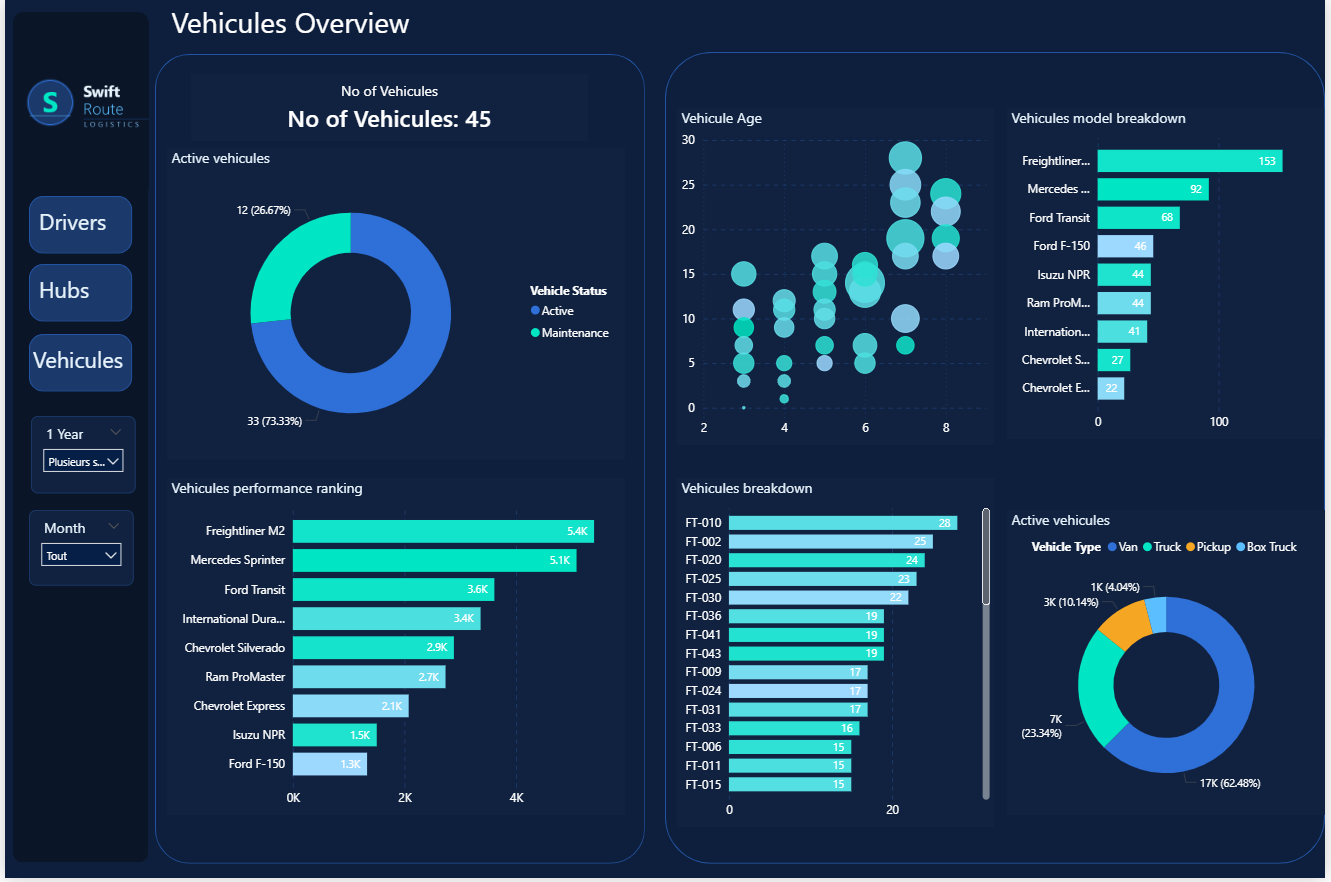

What the dashboard file says about the page in this screenshot:
{"tool":"powerbi","page":{"name":"Vehicules","canvas":[1500,1000],"ordinal":3},"visuals":[{"type":"shape","box":[9.3,16.3,153.7,966.6],"z":0},{"type":"textbox","box":[184.3,0,498.6,62.9],"z":1000},{"type":"slicer","fields":{"Values":["Date.1 Year"]},"box":[29.3,474.1,119,87.9],"z":2000},{"type":"slicer","fields":{"Values":["Date.Month"]},"box":[27.6,581,119,86.2],"z":3000},{"type":"shape","box":[170,62.9,556.7,920],"z":4000},{"type":"shape","box":[750,62.1,750,922.4],"z":5000},{"type":"cardVisual","fields":{"Data":["Table.No of Vehicules"]},"box":[210.3,86.2,451.7,75.9],"z":6000},{"type":"donutChart","title":"Active vehicules","fields":{"Category":["Vehicles.Vehicle Status"],"Y":["CountNonNull(Vehicles.Vehicle ID)"]},"box":[184.5,170.7,520.7,353.4],"z":7000},{"type":"clusteredBarChart","title":"Vehicules performance ranking","fields":{"Category":["Vehicles.Vehicle Model"],"Y":["Table.Total orders"]},"box":[184.5,544.8,520.7,382.8],"z":8000},{"type":"scatterChart","title":"Vehicule Age","fields":{"Y":["Vehicles.Breakdown"],"X":["Vehicles.vehicule Age"],"Size":["Sum(Vehicles.Breakdown)1"]},"box":[763.8,124.1,360.3,382.8],"z":9000},{"type":"clusteredBarChart","title":"Vehicules breakdown","fields":{"Category":["Vehicles.Vehicle Code"],"Y":["Sum(Vehicles.Breakdown)"]},"box":[763.8,544.8,360.3,396.6],"z":10000},{"type":"clusteredBarChart","title":"Vehicules model breakdown","fields":{"Y":["Sum(Vehicles.Breakdown)"],"Category":["Vehicles.Vehicle Model"]},"box":[1139.7,124.1,360.3,375.9],"z":11000},{"type":"donutChart","title":"Active vehicules","fields":{"Y":["Table.Total orders"],"Category":["Orders.Vehicle Type"]},"box":[1139.7,581,362.1,346.6],"z":12000},{"type":"shape","box":[26.9,301.9,117.3,65.4],"z":13000},{"type":"actionButton","title":"Hubs","box":[38.5,313.5,100,40.4],"z":14000},{"type":"shape","box":[26.9,225,117.3,65.4],"z":15000},{"type":"actionButton","title":"Drivers","box":[38.5,236.5,100,40.4],"z":16000},{"type":"shape","box":[26.9,380.8,117.3,65.4],"z":17000},{"type":"actionButton","title":"Vehicules","box":[32.7,394.2,111.5,40.4],"z":18000},{"type":"image","box":[9.1,25,154.5,193.2],"z":19000}]}

Visuals, with their boxes on the page's 1500x1000 design canvas (x1, y1, x2, y2). These are canvas units, not pixel positions in the 1331x882 screenshot, which may show the page scaled, cropped or inside an application window:
shape: l=9, t=16, r=163, b=983
textbox: l=184, t=0, r=683, b=63
slicer - Date.1 Year: l=29, t=474, r=148, b=562
slicer - Date.Month: l=28, t=581, r=147, b=667
shape: l=170, t=63, r=727, b=983
shape: l=750, t=62, r=1500, b=984
cardVisual - Table.No of Vehicules: l=210, t=86, r=662, b=162
"Active vehicules" donutChart: l=184, t=171, r=705, b=524
"Vehicules performance ranking" clusteredBarChart: l=184, t=545, r=705, b=928
"Vehicule Age" scatterChart: l=764, t=124, r=1124, b=507
"Vehicules breakdown" clusteredBarChart: l=764, t=545, r=1124, b=941
"Vehicules model breakdown" clusteredBarChart: l=1140, t=124, r=1500, b=500
"Active vehicules" donutChart: l=1140, t=581, r=1502, b=928
shape: l=27, t=302, r=144, b=367
"Hubs" actionButton: l=38, t=314, r=138, b=354
shape: l=27, t=225, r=144, b=290
"Drivers" actionButton: l=38, t=236, r=138, b=277
shape: l=27, t=381, r=144, b=446
"Vehicules" actionButton: l=33, t=394, r=144, b=435
image: l=9, t=25, r=164, b=218
